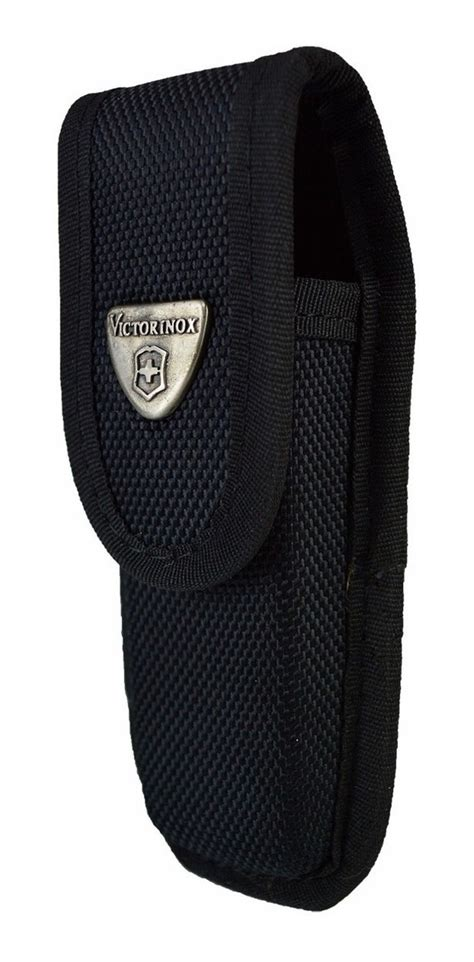nylon: (55, 45, 412, 910)
